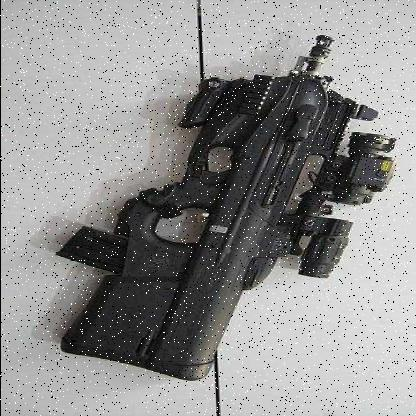rifle: (48, 28, 393, 389)
